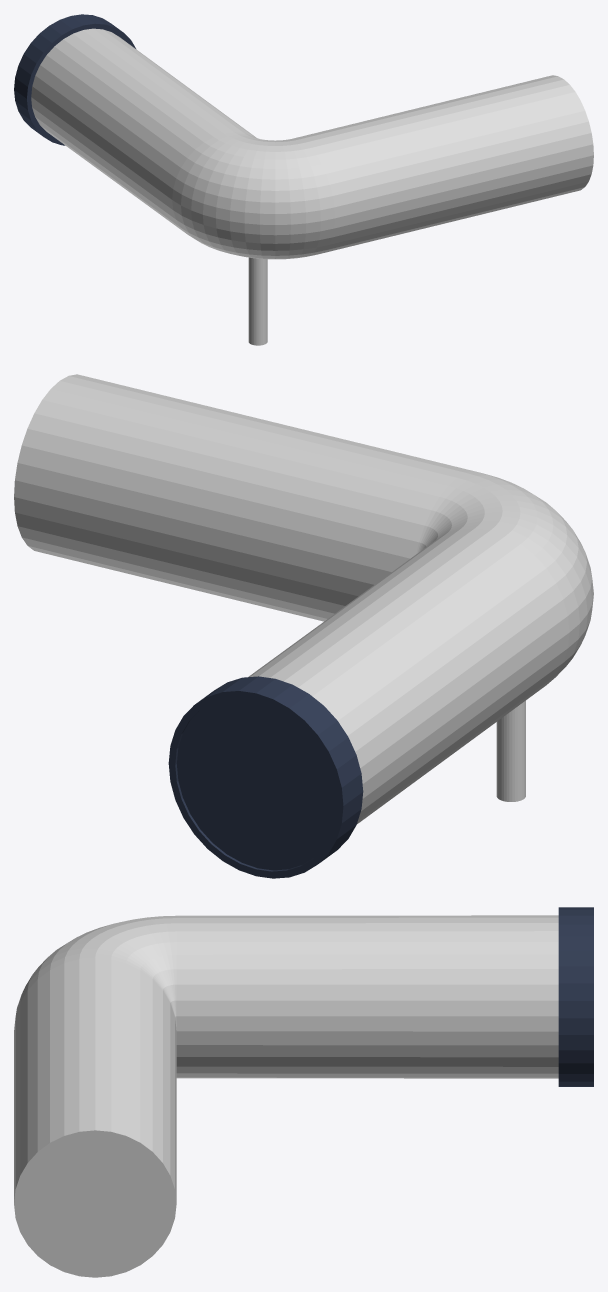
File: Pipesegment_ecke-links-offen_blank.fbx
3 renders of one model, top to bottom at view 1: azimuth 30°, elevation 25°; view 2: azimuth 150°, elevation 25°; view 3: azimuth 270°, elevation 25°, orthographic. The views are drawn at different scales.
Parts seen in each view (by area): view 1: Pipe-Segment_straight.001, Pipe-foot.001; view 2: Pipe-Segment_straight.001, Pipe-foot.001; view 3: Pipe-Segment_straight.001.
Boxes of the visible parts, left/top/right/bottom form: Pipe-Segment_straight.001: left=14, top=14, right=593, bottom=259; Pipe-foot.001: left=248, top=257, right=267, bottom=345; Pipe-Segment_straight.001: left=14, top=374, right=593, bottom=878; Pipe-foot.001: left=496, top=700, right=525, bottom=801; Pipe-Segment_straight.001: left=14, top=907, right=593, bottom=1277.
Bounding box in the file's own units: 355 × 183 × 355.
